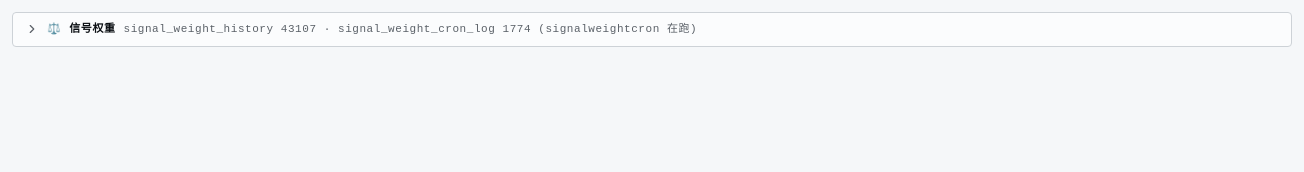
Scenario: BackendCapabilityPanel › loader 抛错时提示后端未就绪
Click the text "信号权重" at (92, 29), box [69, 21, 116, 38]
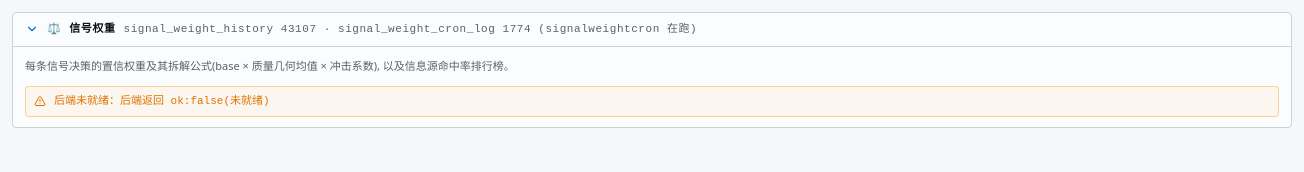
Now the text "后端未就绪：后端返回 ok:false(未就绪)" is shown, box [54, 93, 270, 110]
